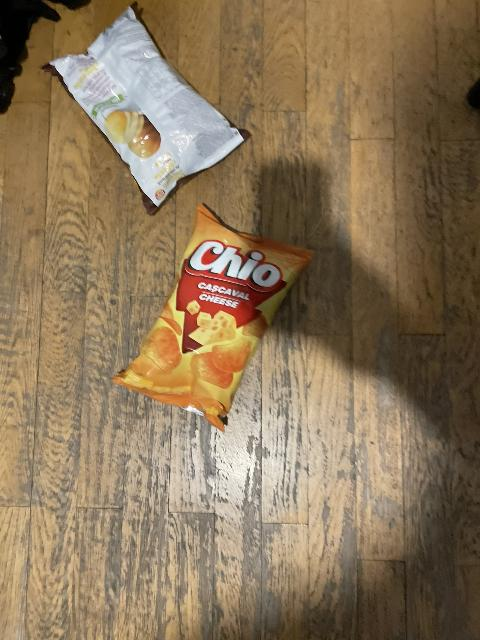Chio Cascaval 125g: (106, 206, 317, 427)
Lays Beef Grilled Ribs 125g: (46, 7, 253, 212)
